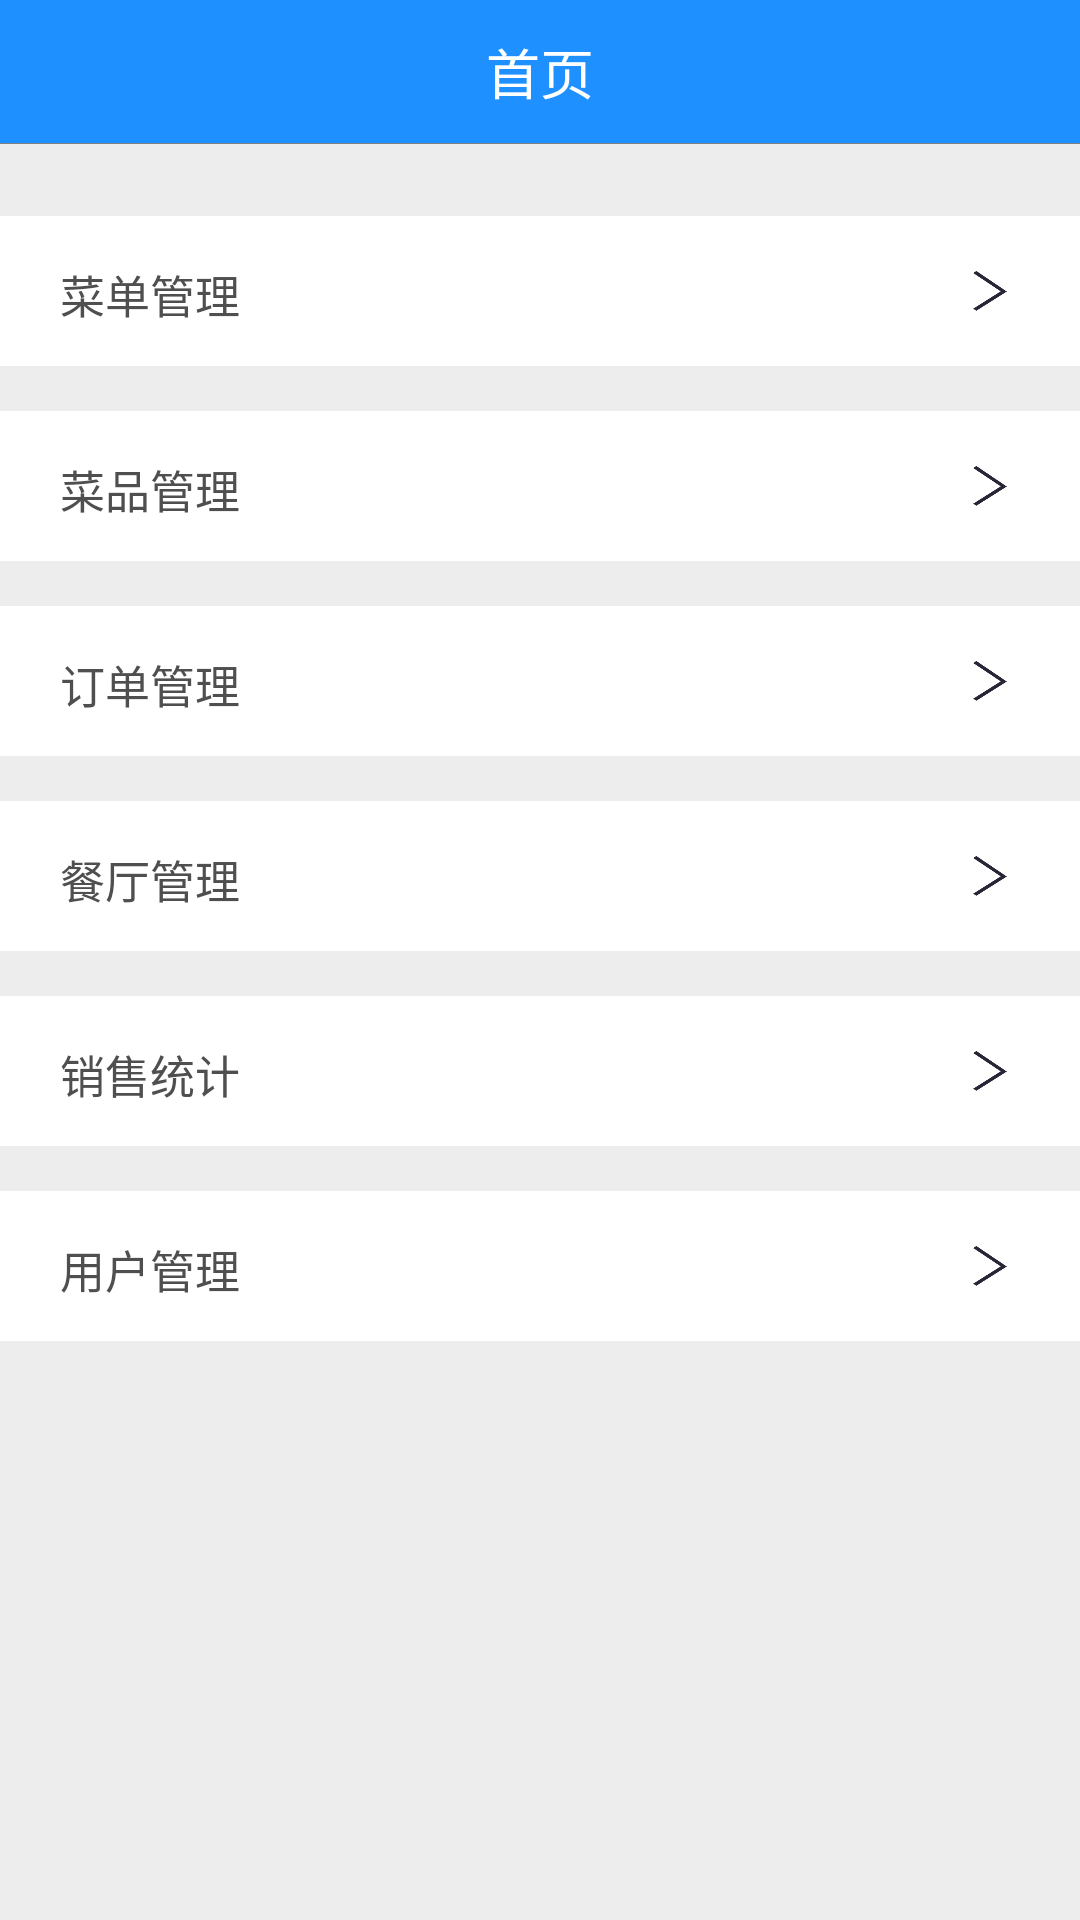

Screen size 1080px×1920px. Icon name, then its center in pixels as (x,y):
right arrow: (990,291), (990,486), (990,681), (990,876), (990,1071), (990,1266)
